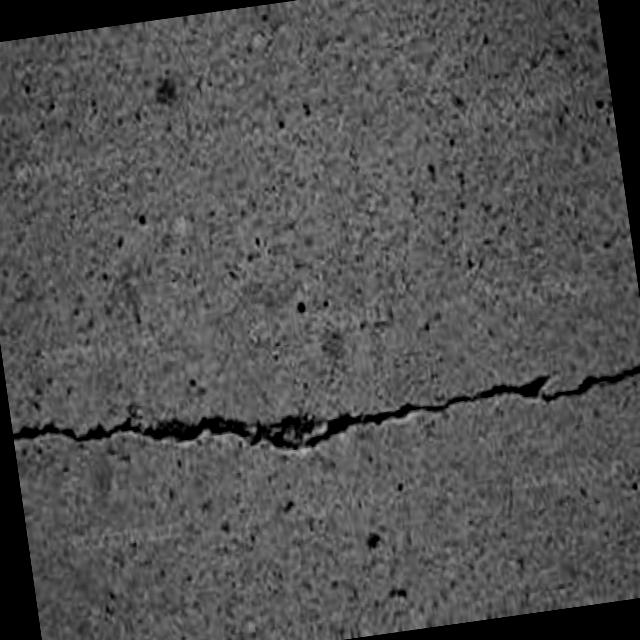crack: (11, 323, 640, 500)
